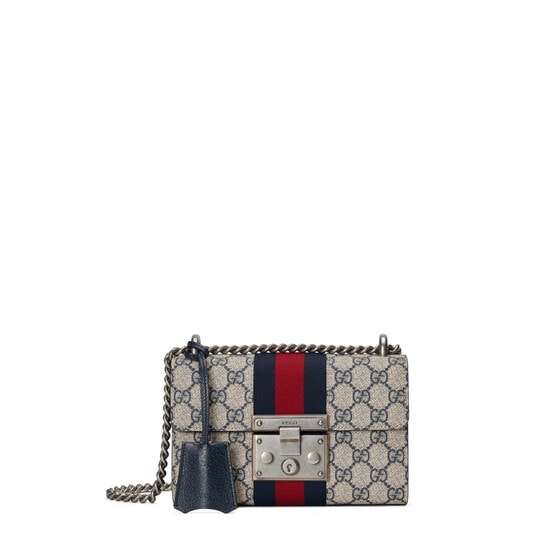Gucci: (143, 314, 450, 516), (242, 327, 339, 502), (348, 355, 402, 507)
